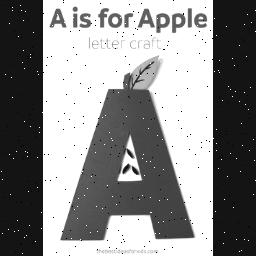a: (59, 86, 197, 244), (47, 6, 69, 32), (138, 6, 156, 28)
